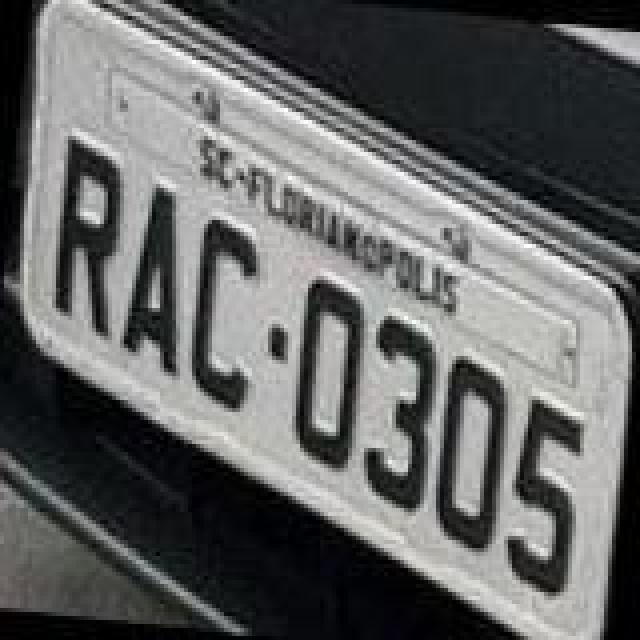3: (354, 308, 446, 516)
5: (496, 380, 592, 596)
A: (114, 172, 198, 380)
C: (178, 210, 270, 414)
O: (282, 264, 374, 472), (426, 352, 518, 560)
R: (42, 124, 134, 340)
